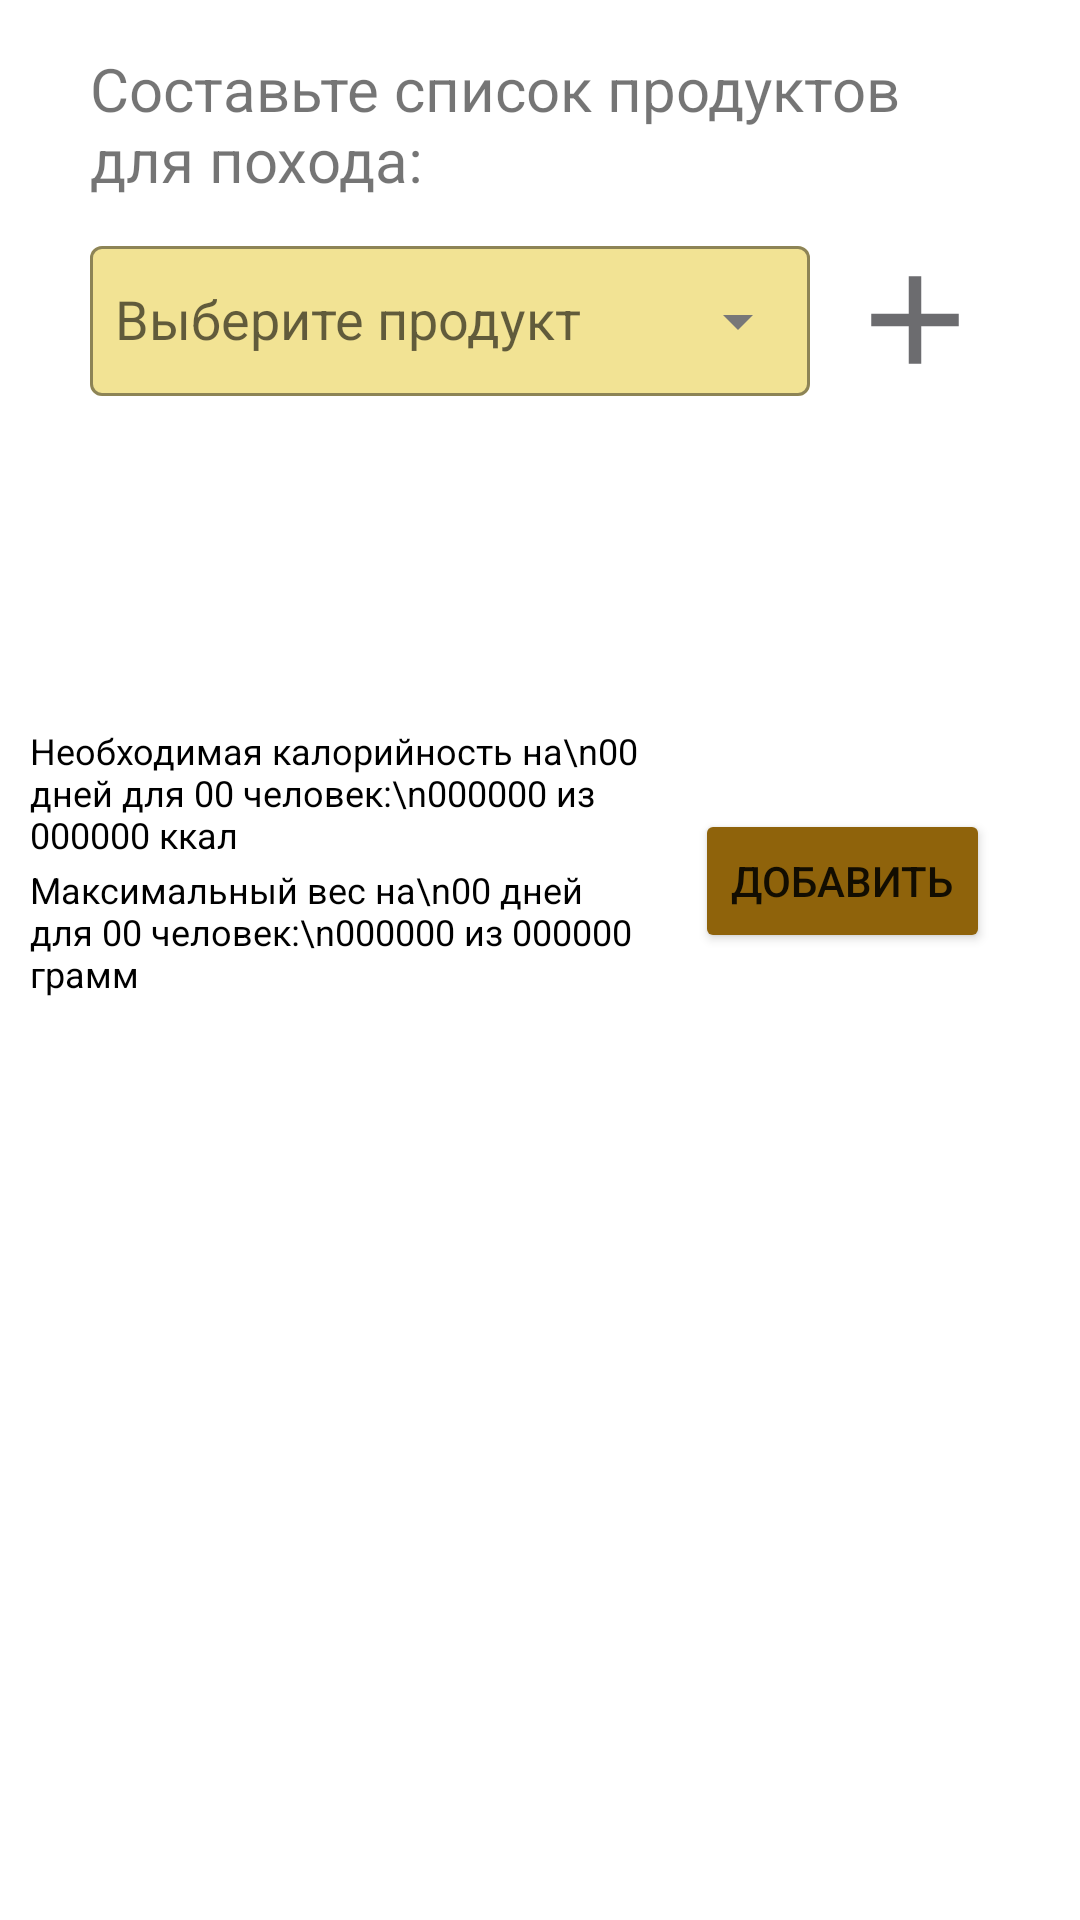

Named icons in this screenshot (1080px×1920px) and their bounding boxes, (x1, y1, x2, y2):
add food plus: (871, 276, 959, 364)
